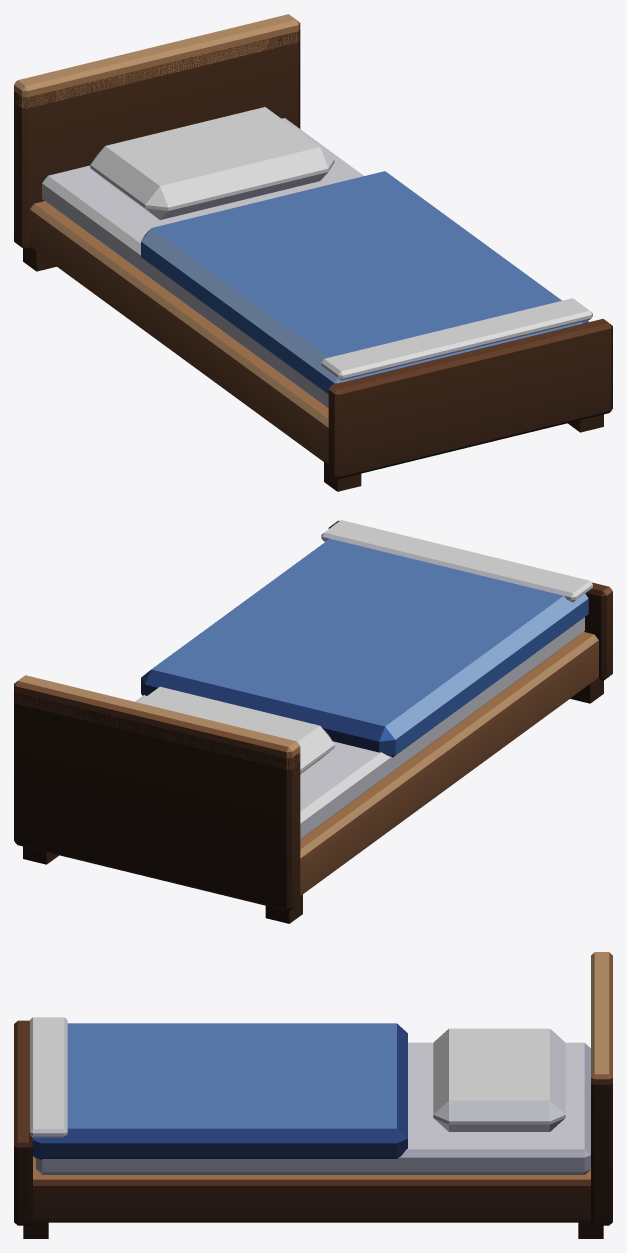
File: bed.glb
3 renders of one model, top to bottom at view 1: azimuth 30°, elevation 25°; view 2: azimuth 150°, elevation 25°; view 3: azimuth 270°, elevation 25°, orthographic. The views are drawn at different scales.
Parts seen in each view (by area): view 1: bed; view 2: bed; view 3: bed.
Boxes of the visible parts, <box> form: bed: <box>14,14,612,491</box>; bed: <box>14,520,612,923</box>; bed: <box>14,952,612,1238</box>.
Size of the model in its own units: 0.94 by 0.58 by 1.9.
